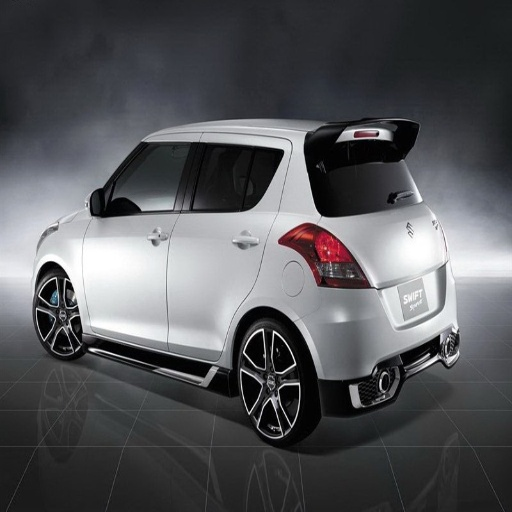back_bumper: (289, 287, 456, 389)
back_glass: (323, 143, 414, 214)
back_left_door: (167, 137, 276, 360)
tailgate: (340, 203, 444, 317)
trunk: (344, 212, 400, 259)
